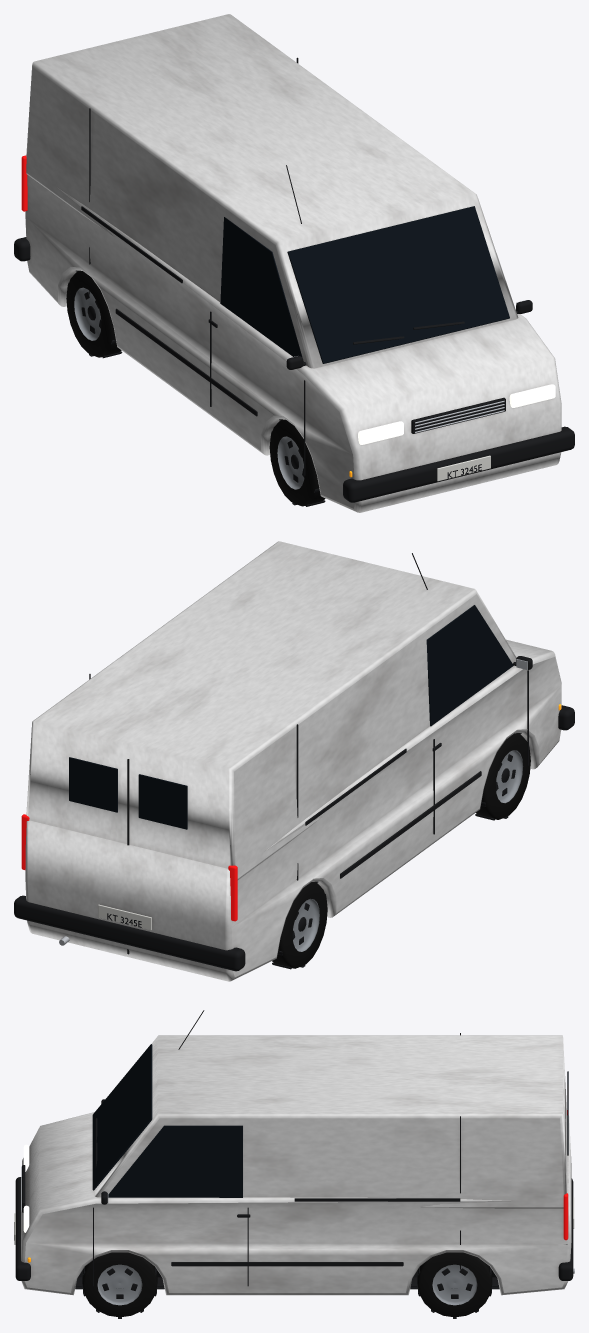
The model's file is auto_van.glb.
3 views of the same model, one above another, from view 1: azimuth 30°, elevation 25°; view 2: azimuth 150°, elevation 25°; view 3: azimuth 270°, elevation 25° (orthographic). The views are drawn at different scales.
Parts seen in each view (by area): view 1: TintKaroseria, Detale, Kolo3, Kolo1, Reflektor.001, Reflektor; view 2: TintKaroseria, Detale, Kolo3, Kolo1; view 3: TintKaroseria, Detale, Kolo4, Kolo2.
Boxes of the visible parts, x1,y1,x2,y2 form: TintKaroseria: (25,14,561,512); Detale: (14,57,574,502); Kolo3: (66,270,122,358); Kolo1: (269,419,325,506); Reflektor.001: (509,384,555,407); Reflektor: (358,421,403,444); TintKaroseria: (25,541,561,981); Detale: (14,553,574,971); Kolo3: (272,881,327,969); Kolo1: (475,733,530,820); TintKaroseria: (21,1035,571,1295); Detale: (14,1010,574,1289); Kolo4: (417,1252,492,1318); Kolo2: (82,1252,157,1318).
Size of the model in its own units: 2.1 by 2.4 by 5.08.
Materials: 12 (1 with a texture image).
